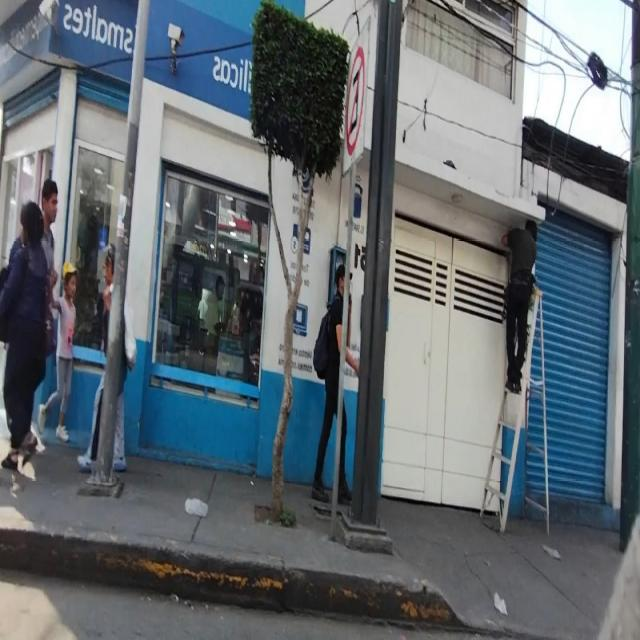adult: (0, 202, 46, 466), (312, 264, 360, 499), (78, 248, 128, 467), (36, 264, 77, 448), (502, 215, 538, 389), (35, 178, 59, 354)
